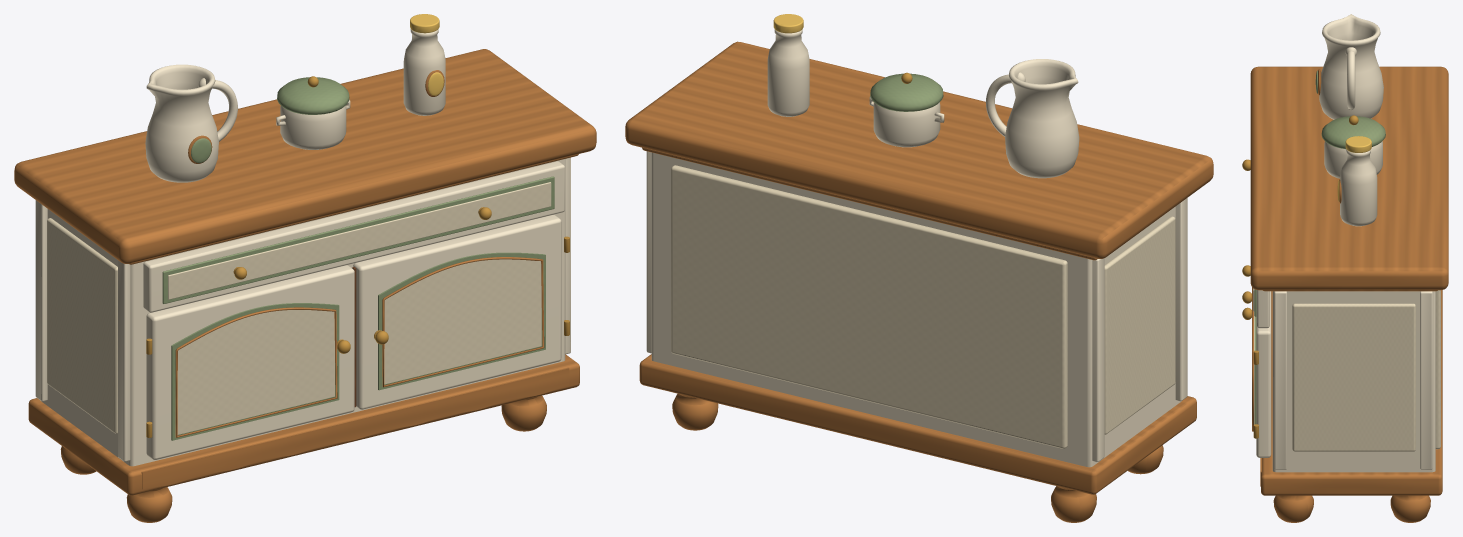
Rendered from MilkCabinet.fbx.
3 renders of one model, left to right at view 1: azimuth 30°, elevation 25°; view 2: azimuth 150°, elevation 25°; view 3: azimuth 270°, elevation 25°, orthographic. The views are drawn at different scales.
Parts seen in each view (by area): view 1: MilkCabinet; view 2: MilkCabinet; view 3: MilkCabinet.
Boxes of the visible parts, <box> form: MilkCabinet: <box>14,14,596,522</box>; MilkCabinet: <box>625,14,1213,522</box>; MilkCabinet: <box>1242,14,1448,522</box>.
Bounding box in the file's own units: 118 × 95 × 50.
Materials: 1 (1 with a texture image).
